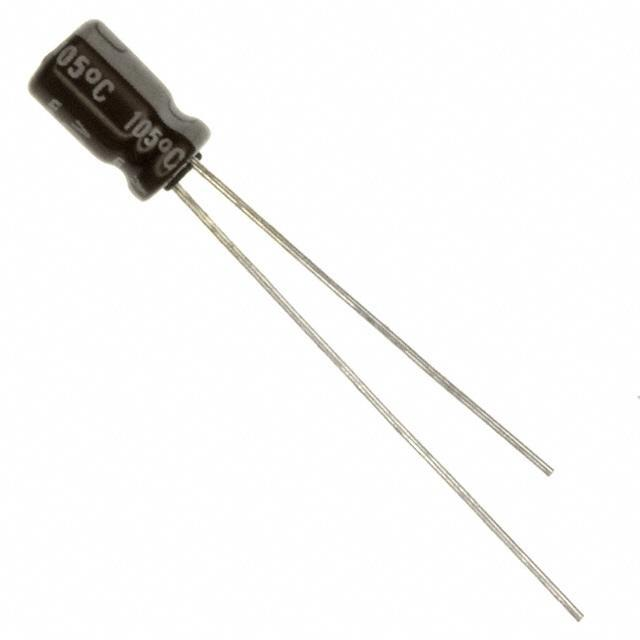Capacitor: (28, 20, 588, 623)
